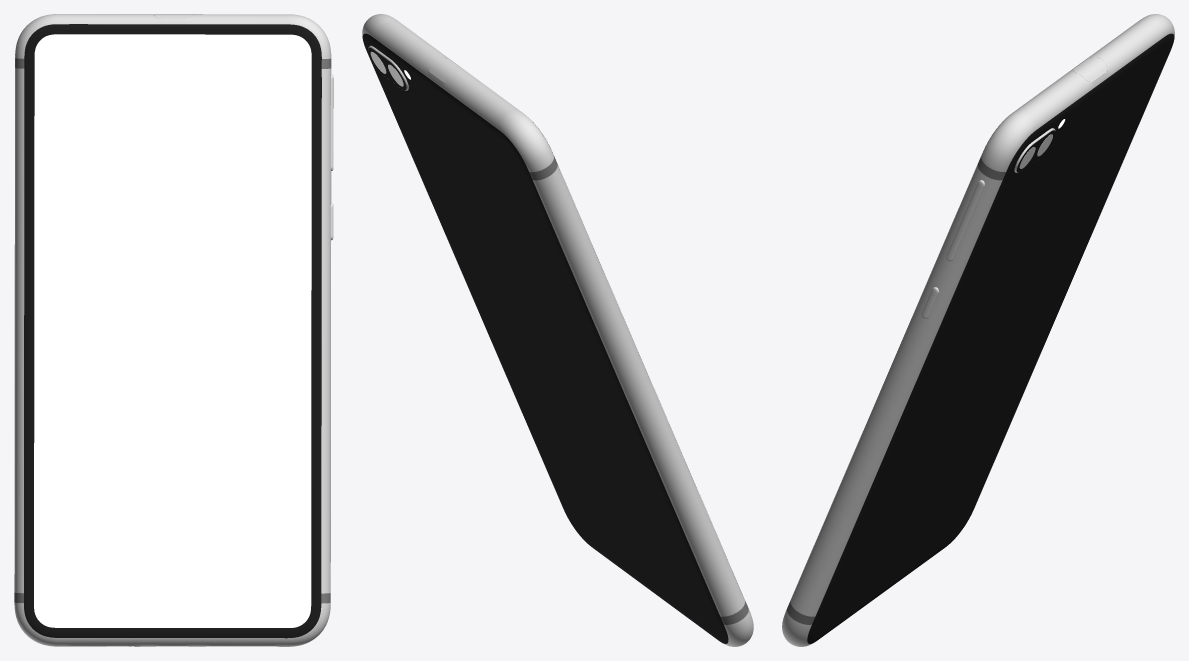
File: smartphone-transformed.glb
3 views of the same model, side by side, from view 1: azimuth 30°, elevation 25°; view 2: azimuth 150°, elevation 25°; view 3: azimuth 270°, elevation 25° (orthographic). The views are drawn at different scales.
Visible parts, largest first — view 1: Object_11, Object_4; view 2: Object_4; view 3: Object_4.
Boxes of the visible parts, x1,y1,x2,y2 form: Object_11: [34, 34, 311, 627]; Object_4: [14, 14, 333, 646]; Object_4: [362, 14, 753, 646]; Object_4: [782, 14, 1174, 646].
Size of the model in its own units: 1.21 by 1.86 by 1.13.
2 materials, 2 textured.
